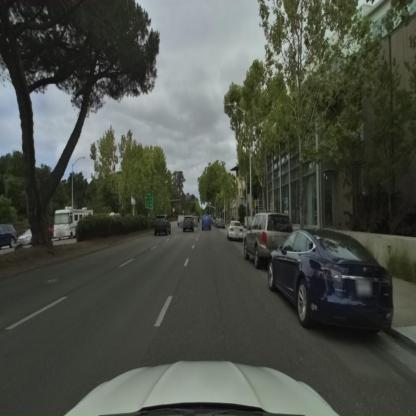car: (267, 229, 395, 333), (243, 213, 296, 269), (1, 224, 18, 250), (228, 220, 247, 242), (153, 216, 170, 235), (17, 230, 32, 247), (183, 217, 196, 231), (202, 215, 212, 230), (215, 218, 225, 228)
truck: (55, 208, 92, 240)
